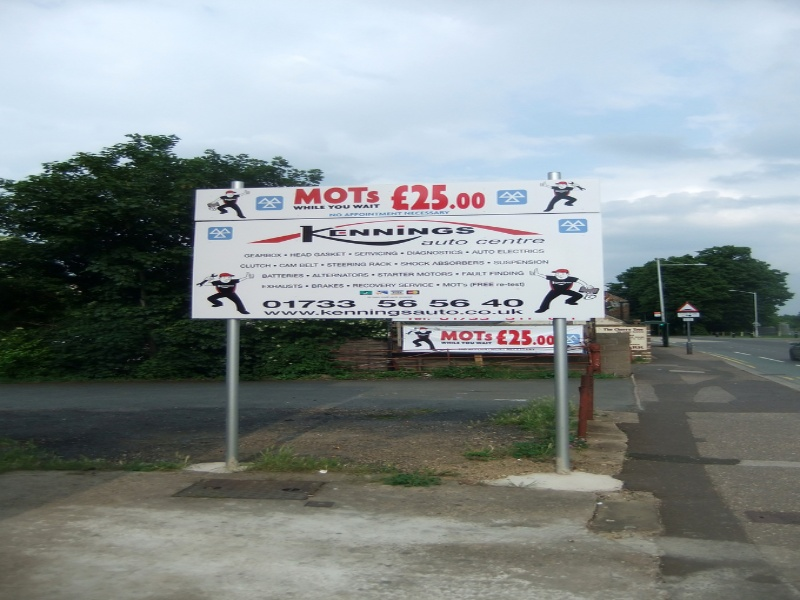serive_autocentre: (198, 196, 618, 334)
westside: (94, 93, 752, 557)
